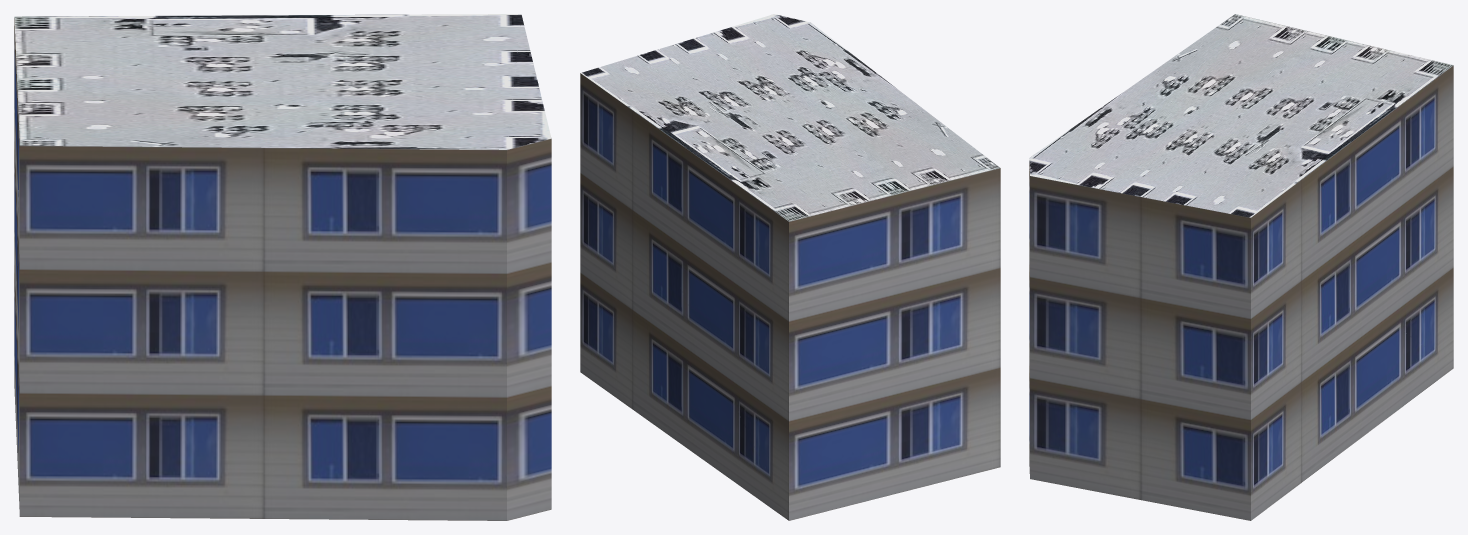
File: ResTex__5109.fbx
The picture shows the model from 3 angles, left to right: view 1: azimuth 30°, elevation 25°; view 2: azimuth 150°, elevation 25°; view 3: azimuth 270°, elevation 25°; orthographic projection. The views are drawn at different scales.
Parts seen in each view (by area): view 1: CityEngineMaterial_23_m, CityEngineMaterial_4_m; view 2: CityEngineMaterial_23_m, CityEngineMaterial_4_m; view 3: CityEngineMaterial_23_m, CityEngineMaterial_4_m.
Part boxes in pixels (left/top/right/bottom): CityEngineMaterial_23_m: left=14, top=18, right=551, bottom=520; CityEngineMaterial_4_m: left=14, top=14, right=551, bottom=149; CityEngineMaterial_23_m: left=580, top=73, right=1000, bottom=520; CityEngineMaterial_4_m: left=581, top=14, right=999, bottom=221; CityEngineMaterial_23_m: left=1029, top=65, right=1453, bottom=520; CityEngineMaterial_4_m: left=1029, top=14, right=1453, bottom=217.
Size of the model in its own units: 12.98 by 9 by 11.42.
Materials: 2 (2 with a texture image).
